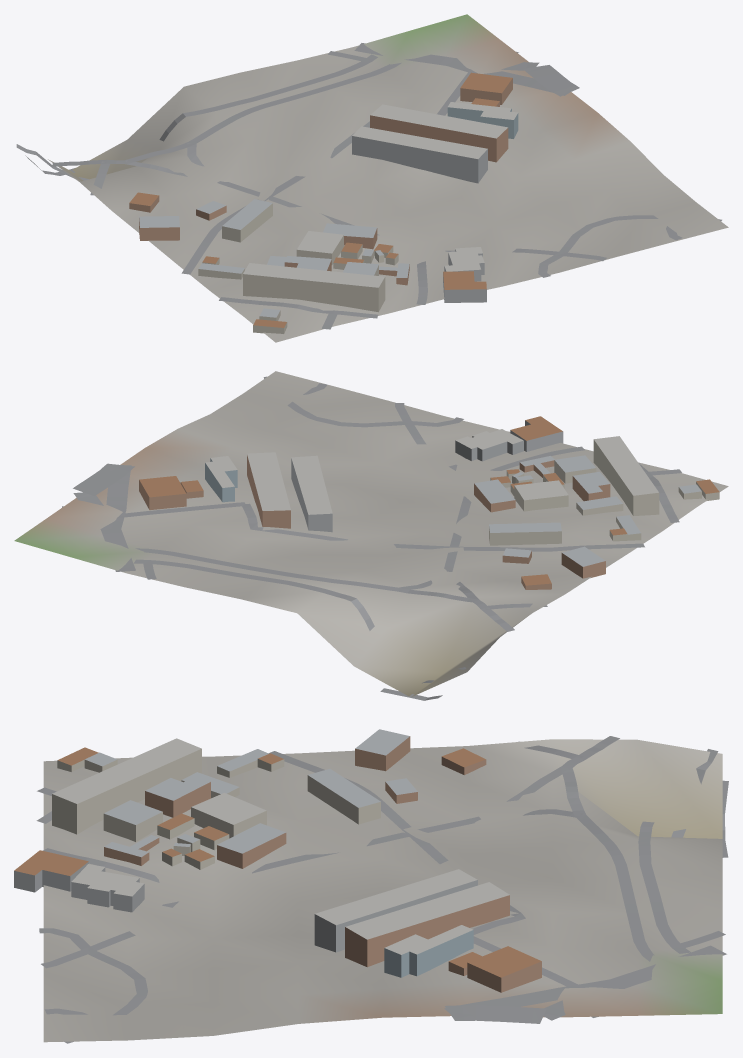
The picture shows the model from 3 angles, top to bottom: view 1: azimuth 30°, elevation 25°; view 2: azimuth 150°, elevation 25°; view 3: azimuth 270°, elevation 25°; orthographic projection. The views are drawn at different scales.
Visible parts, largest first — view 1: Lo; view 2: Lo; view 3: Lo.
Part boxes in pixels (x1,y1,x2,y2): Lo: [16, 14, 728, 342]; Lo: [14, 371, 728, 700]; Lo: [14, 729, 728, 1043].
Bounding box in the file's own units: 266 × 37.91 × 270.
